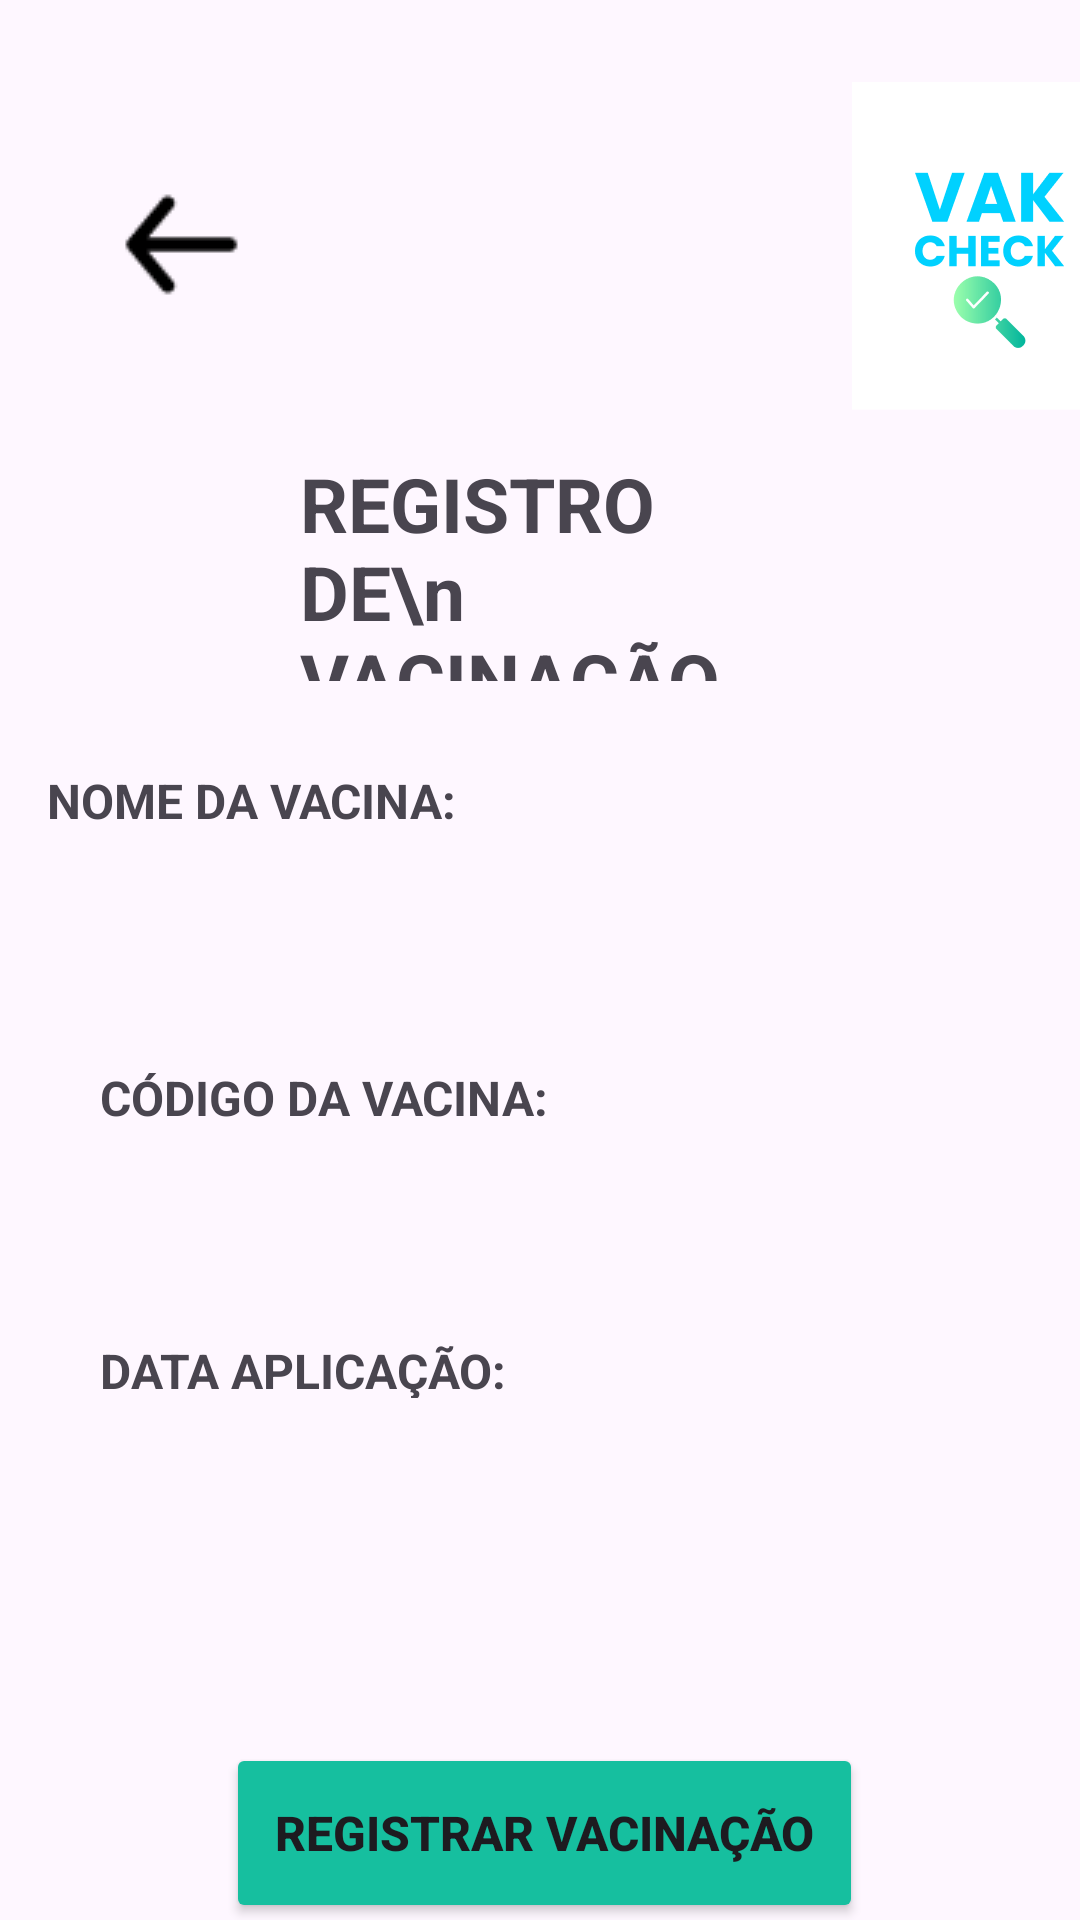

Screen size 1080 x 1920. Icon name, then its box in pixels as rect(x1, y1, x2, y2):
voltar: rect(125, 194, 238, 295)
